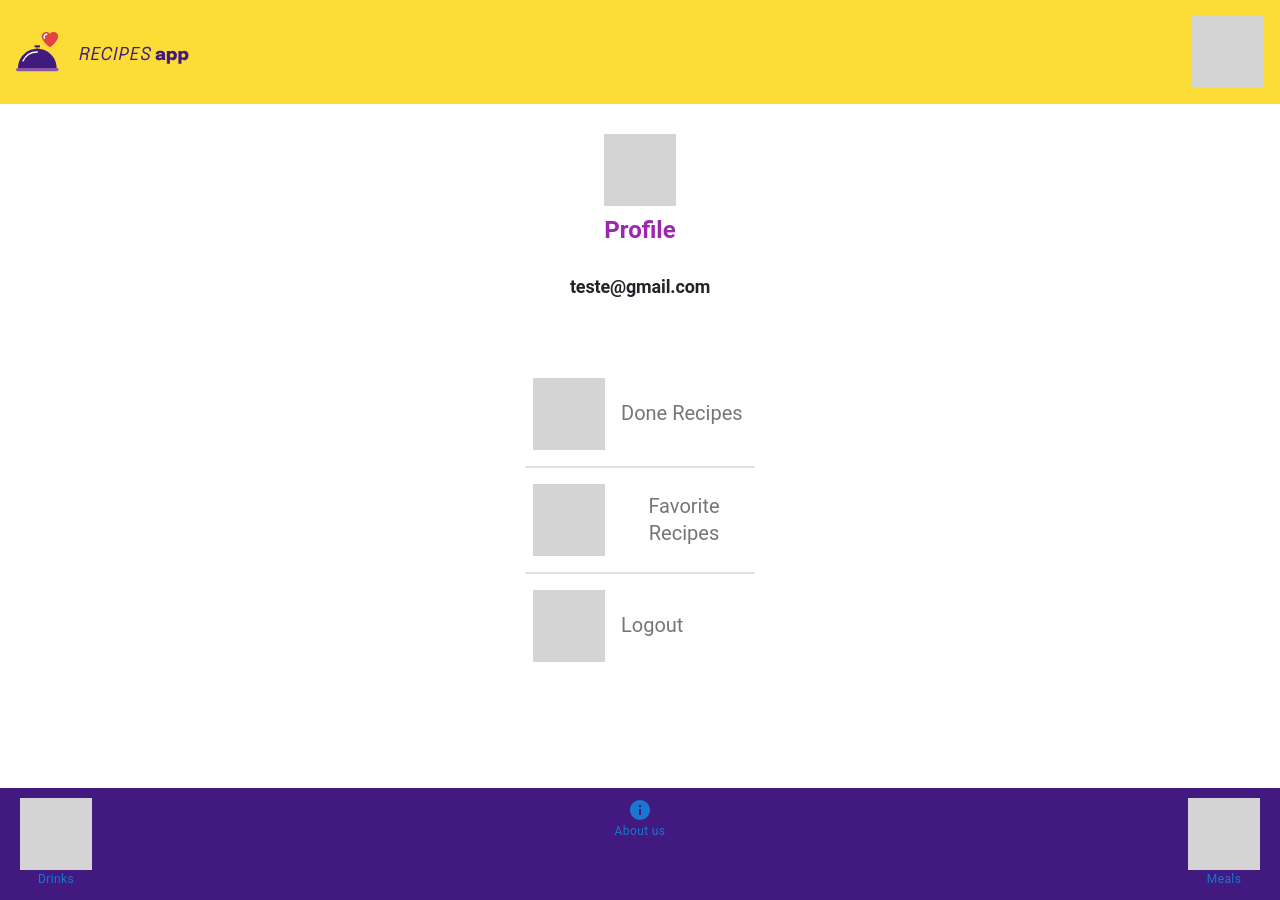
Test: Testando a página Profile › Testando se o email é renderizado na tela
Expected: the heading "teste@gmail.com" is shown, [570,276,710,298]
Expected: the heading with test id "profile-email" reads "teste@gmail.com", [570,276,710,297]
Click the button with test id "profile-logout-btn": click(608, 626) [525,582,691,670]
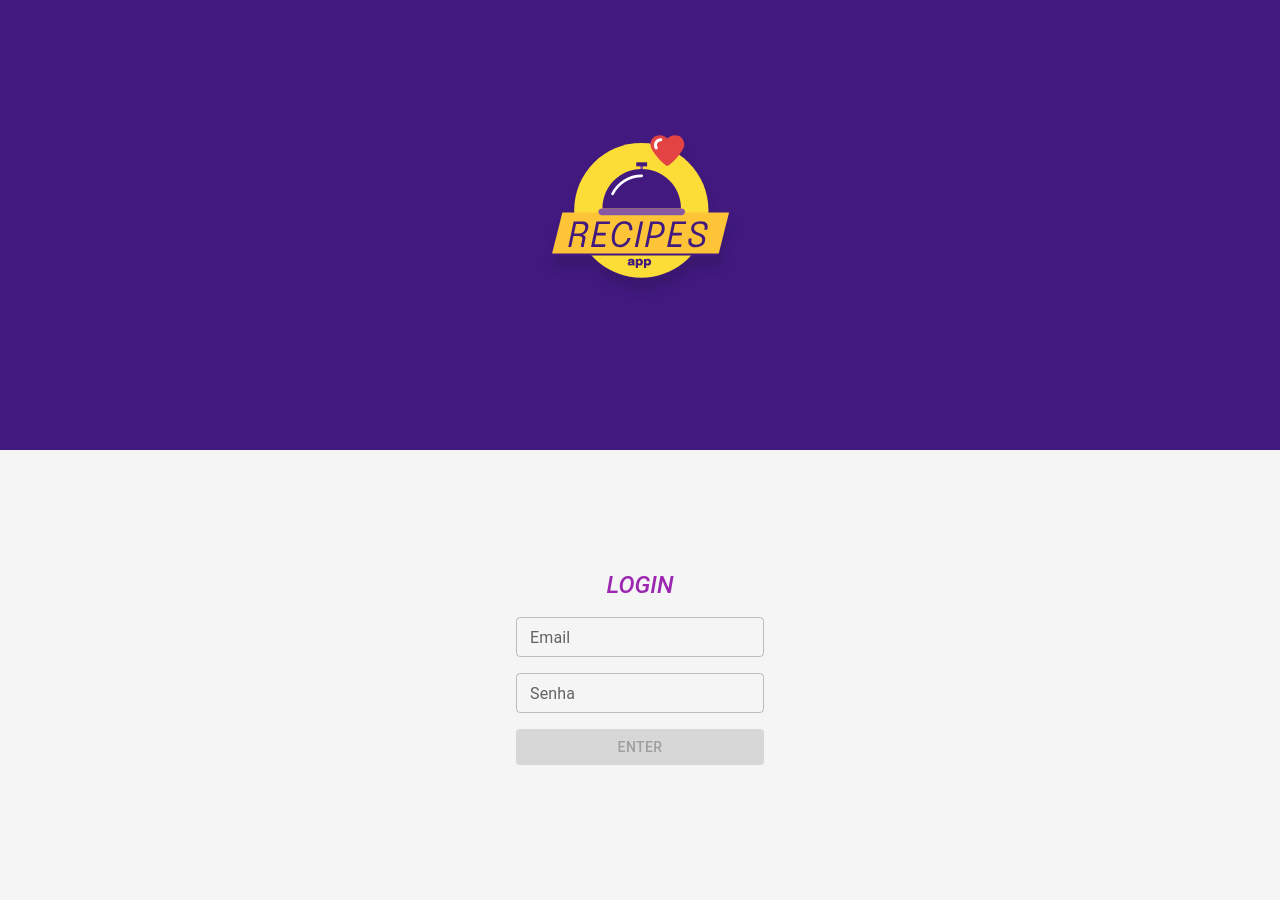
Expected: the heading with test id "profile-email" is gone
Expected: the button with test id "profile-done-btn" is gone
